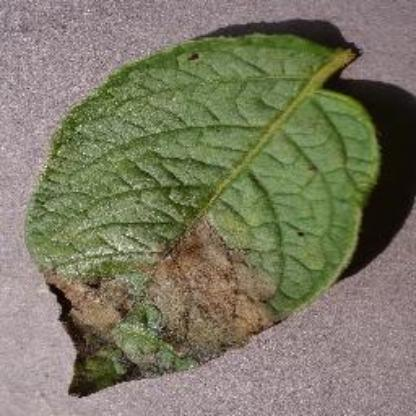Late-Blight: (31, 27, 385, 397)
